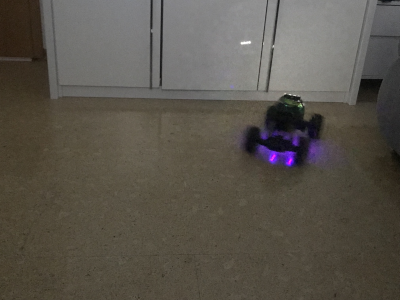remote control car: (243, 92, 325, 168)
